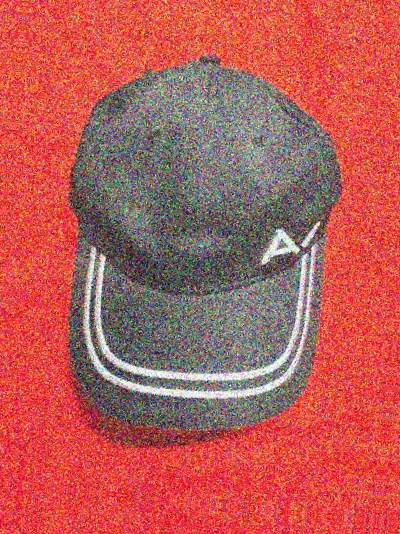Hat: (20, 26, 376, 464)
